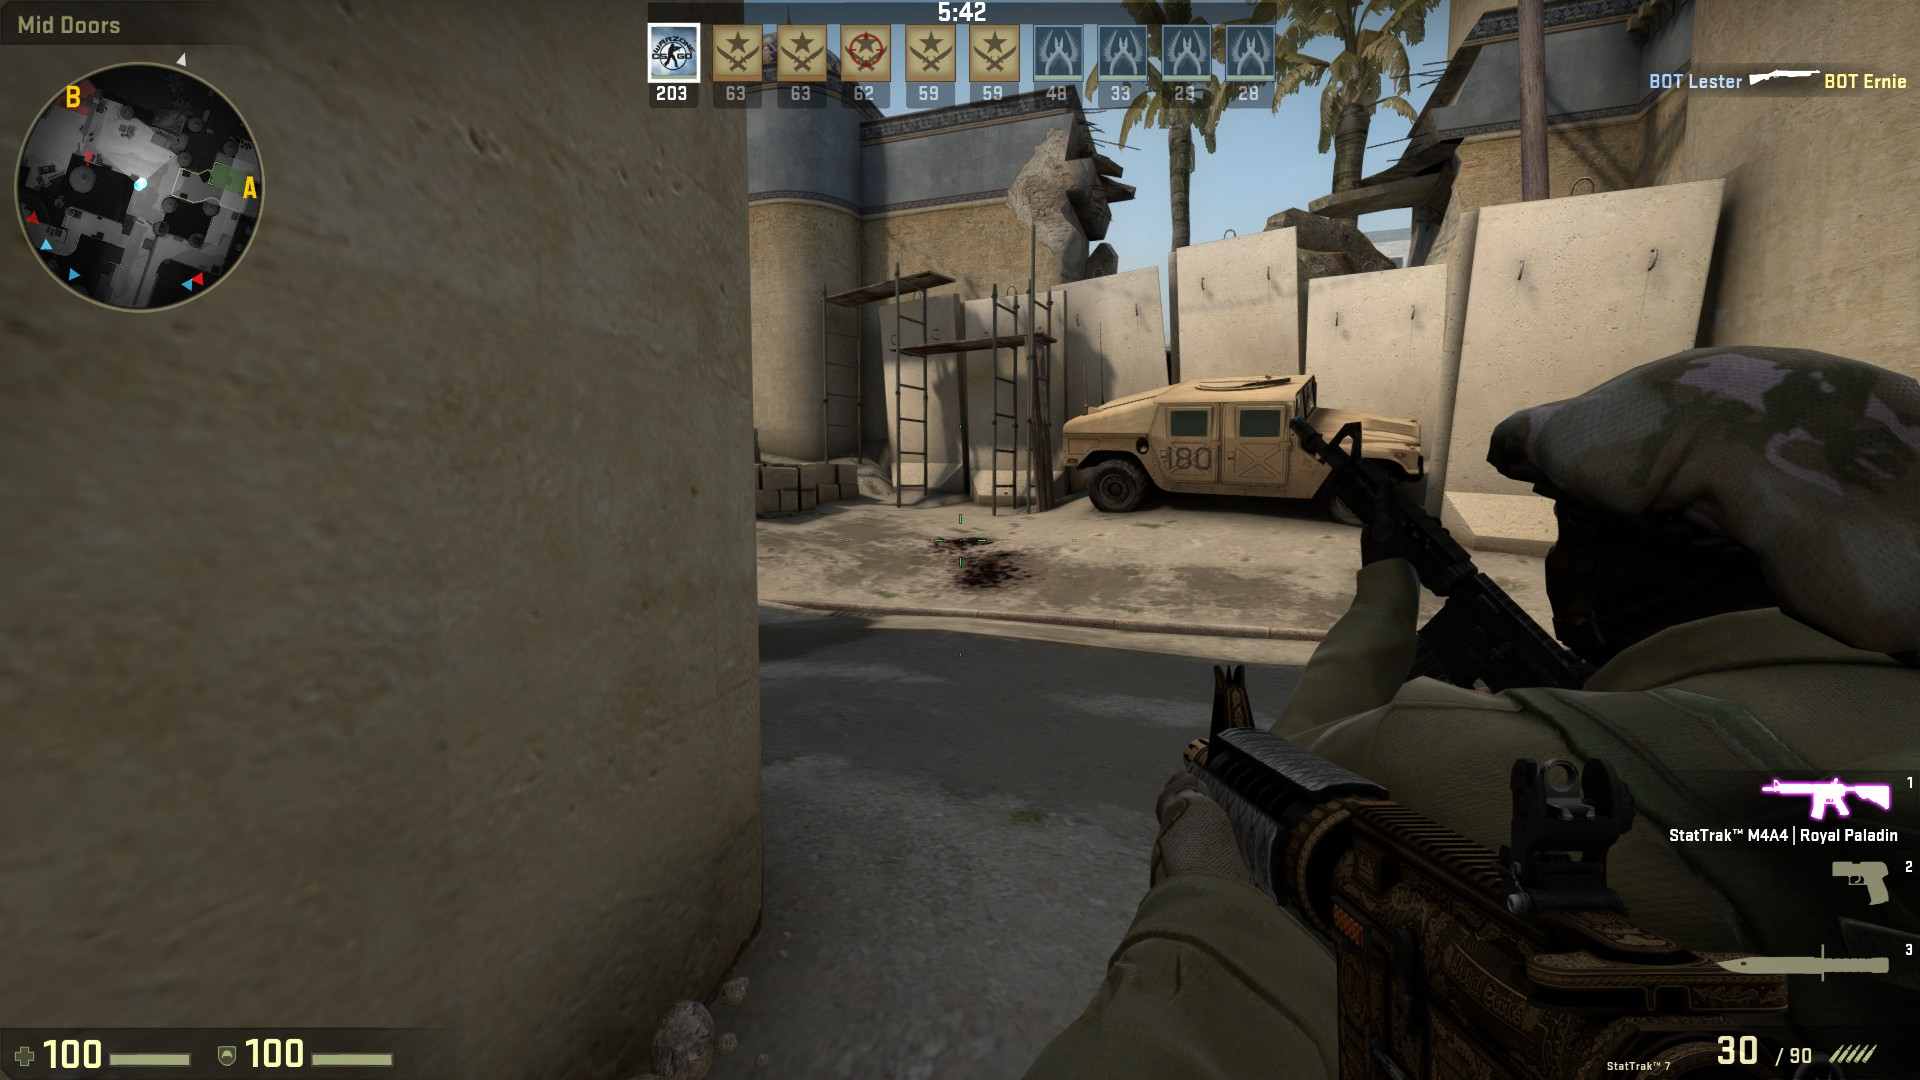c: (1298, 302, 1920, 1014)
ch: (1499, 324, 1920, 692)
